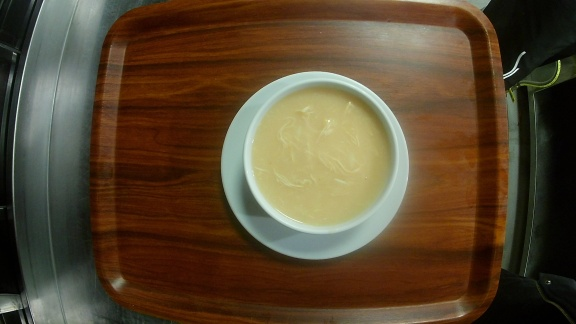tavukcorba: (217, 71, 410, 262)
